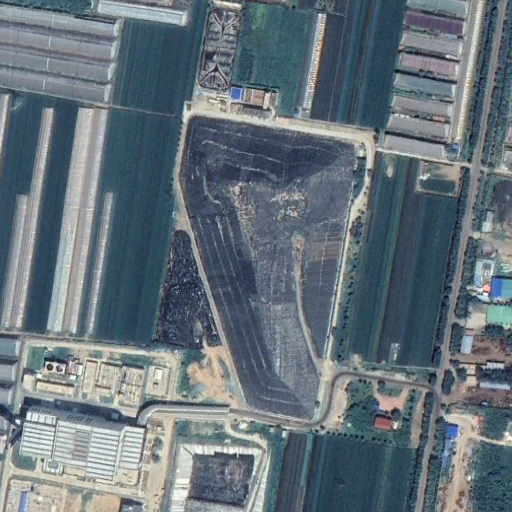lf: (175, 111, 351, 423)
